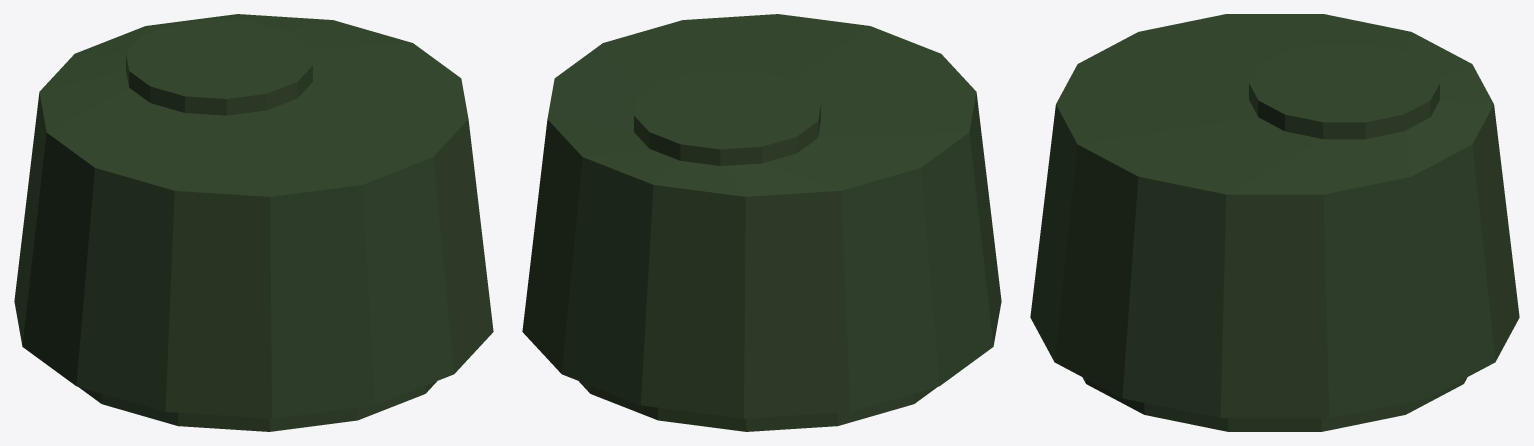
File: GREEN FINISHED TANK HEAD.fbx
3 renders of one model, left to right at view 1: azimuth 30°, elevation 25°; view 2: azimuth 150°, elevation 25°; view 3: azimuth 270°, elevation 25°, orthographic.
Visible parts, largest first — view 1: Cylinder; view 2: Cylinder; view 3: Cylinder.
Boxes of the visible parts, left/top/right/bottom form: Cylinder: left=14, top=14, right=493, bottom=431; Cylinder: left=522, top=14, right=1001, bottom=431; Cylinder: left=1030, top=14, right=1519, bottom=431.
Bounding box in the file's own units: 195 × 118 × 200.
